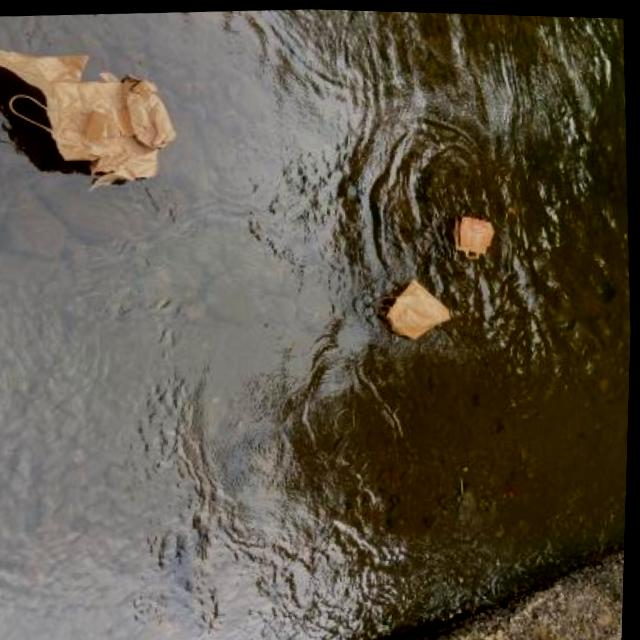Paper: (0, 33, 189, 201), (367, 273, 459, 345), (448, 207, 500, 266)
